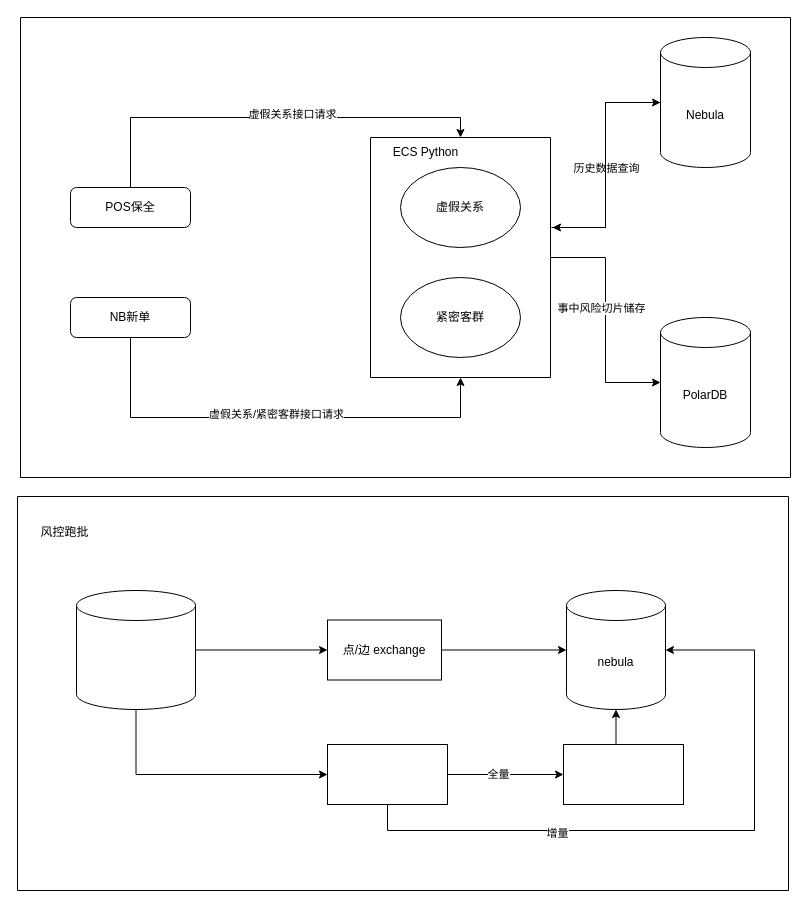
This 808x908 diagram has some shape labels left out. The centre of each missing label's shape, as x and y in pixels:
"DLC" belongs at (387,774).
"maxcompute" belongs at (136,650).
"事中风控" belongs at (405,247).
"家庭/算法边 exchange" belongs at (623,774).
